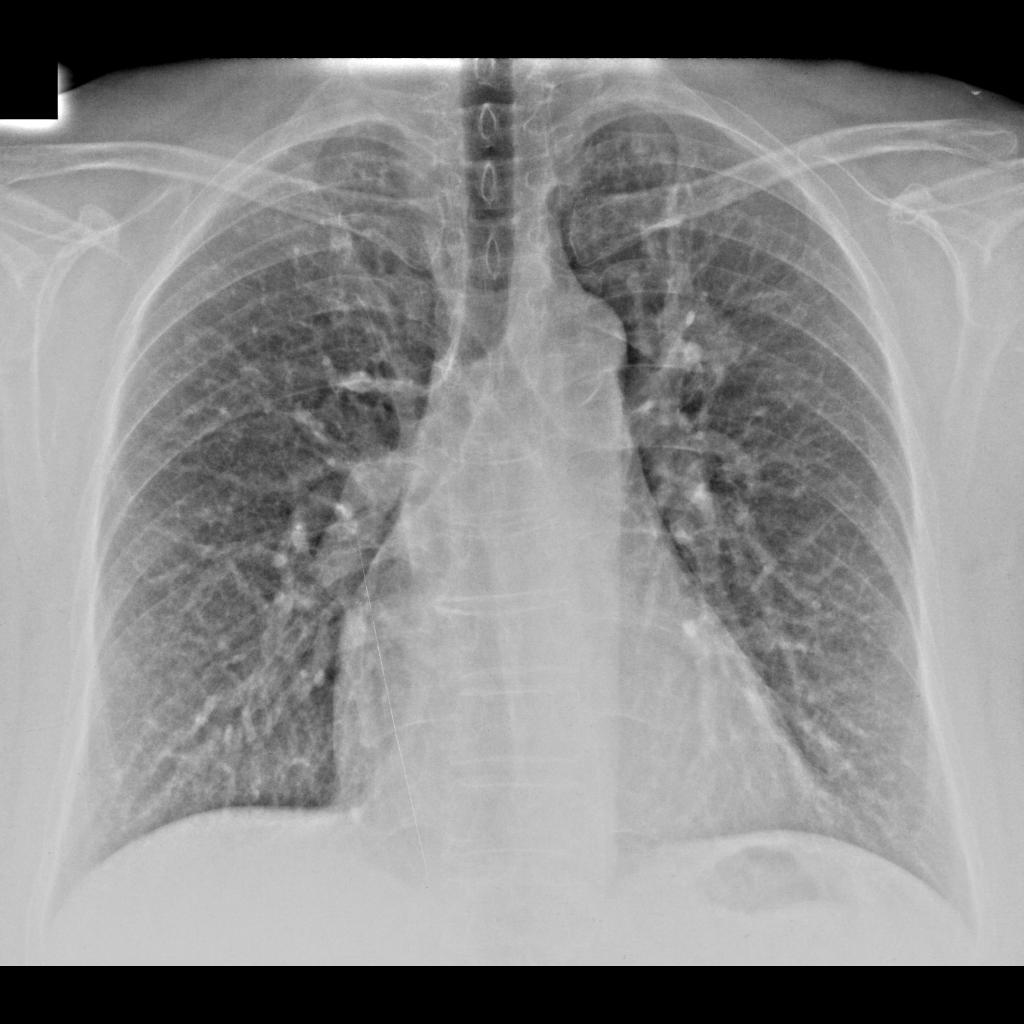Nodule: (639, 282, 748, 391)
